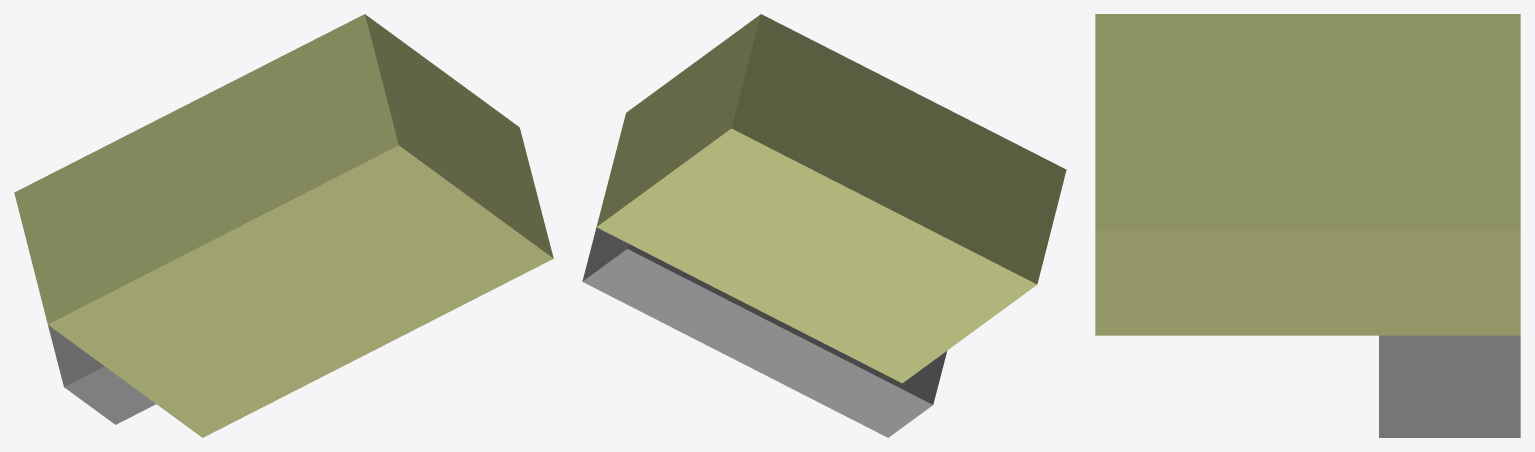
3 renders of one model, left to right at view 1: azimuth 30°, elevation 25°; view 2: azimuth 150°, elevation 25°; view 3: azimuth 270°, elevation 25°, orthographic. The views are drawn at different scales.
Visible parts, largest first — view 1: 0_1_3_2_2_2_0_1_2_0; view 2: 0_1_3_2_2_2_0_1_2_0; view 3: 0_1_3_2_2_2_0_1_2_0.
Part boxes in pixels (x1,y1,x2,y2): 0_1_3_2_2_2_0_1_2_0: [14, 14, 553, 437]; 0_1_3_2_2_2_0_1_2_0: [582, 14, 1066, 437]; 0_1_3_2_2_2_0_1_2_0: [1095, 14, 1520, 437].
Bounding box in the file's own units: 13.45 × 9.61 × 9.
